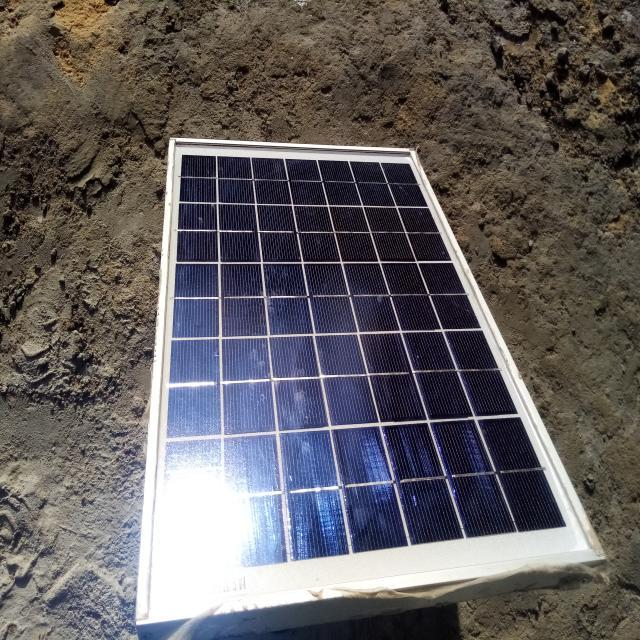no faulty: (149, 146, 606, 624)
